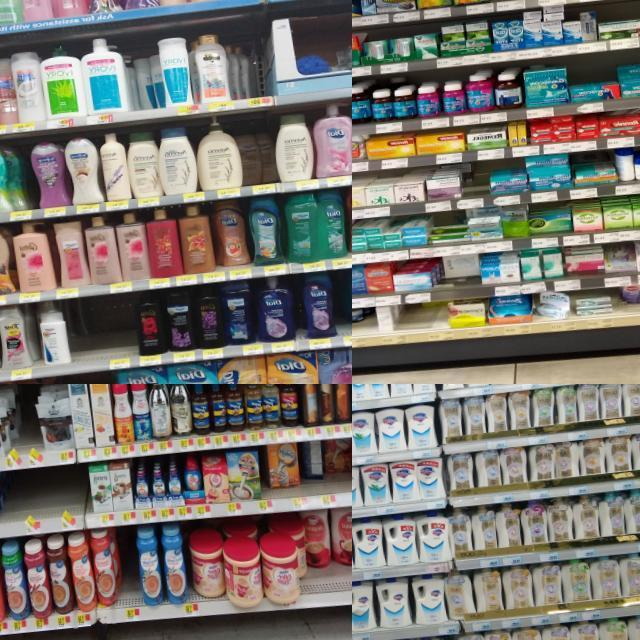Imprecise: (226, 536, 300, 610), (260, 442, 350, 498), (302, 506, 352, 594), (237, 132, 280, 184), (127, 54, 165, 110), (222, 44, 258, 100), (435, 256, 481, 289), (534, 292, 571, 321), (621, 283, 640, 314), (352, 308, 367, 336)
